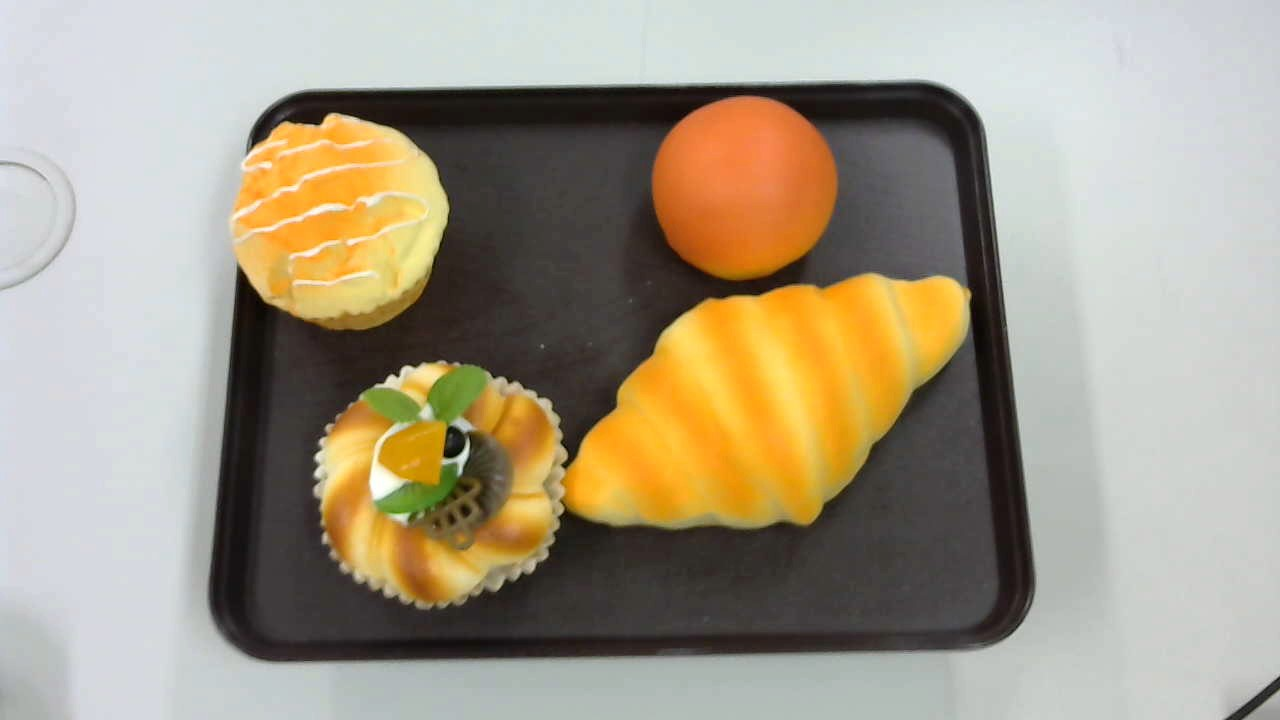bun: (650, 96, 837, 280)
croissant: (560, 270, 972, 526)
cupcake: (230, 113, 450, 334)
fruit tart: (310, 357, 568, 612)
